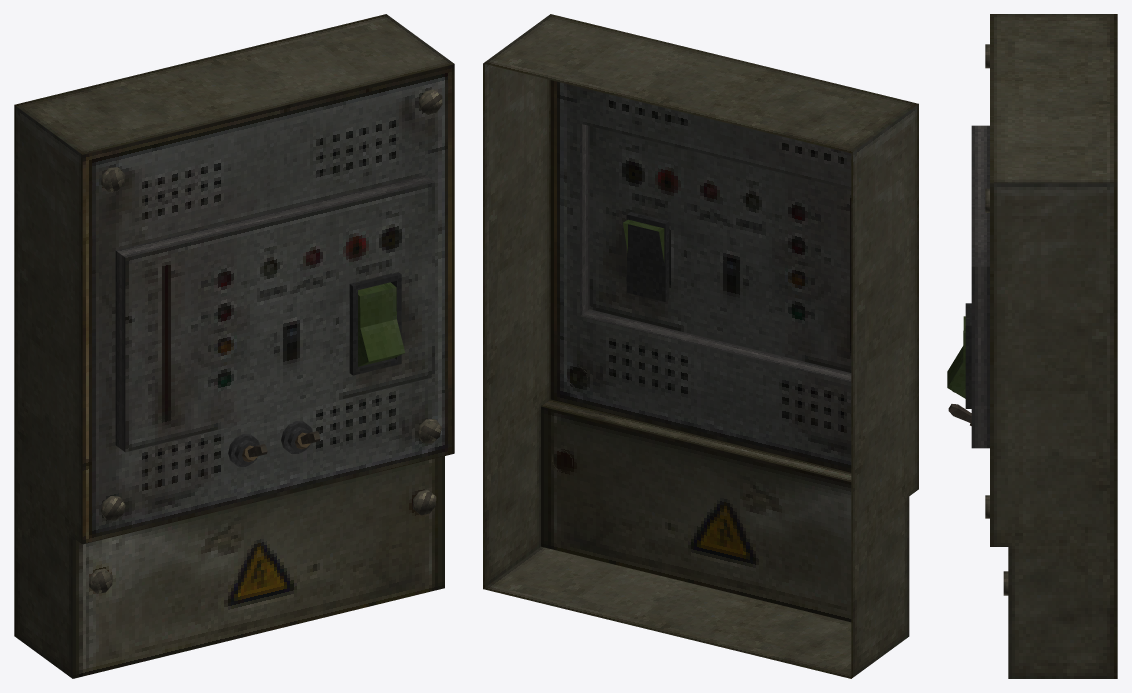
File: panel_etx_1.glb
The picture shows the model from 3 angles, left to right: view 1: azimuth 30°, elevation 25°; view 2: azimuth 150°, elevation 25°; view 3: azimuth 270°, elevation 25°; orthographic projection. The views are drawn at different scales.
Visible parts, largest first — view 1: panel_etx_1, panel_etx_1_button_child; view 2: panel_etx_1; view 3: panel_etx_1, panel_etx_1_button_child.
Boxes of the visible parts, left/top/right/bottom form: panel_etx_1: left=14, top=14, right=454, bottom=678; panel_etx_1_button_child: left=358, top=282, right=405, bottom=366; panel_etx_1: left=483, top=14, right=918, bottom=678; panel_etx_1: left=948, top=14, right=1117, bottom=678; panel_etx_1_button_child: left=947, top=316, right=965, bottom=398.
Size of the model in its own units: 0.44 by 0.6 by 0.1866.
Materials: 2 (2 with a texture image).
